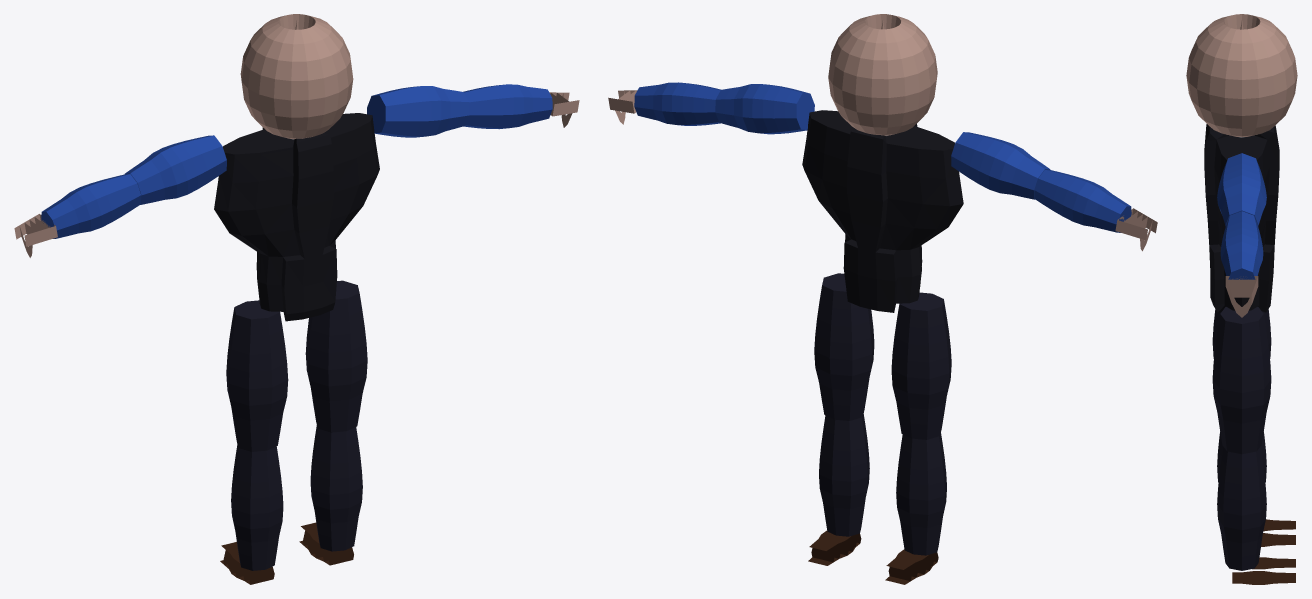
Rendered from e7da803e-6b1f-4518-88e0-7a30cddf0953.glb.
3 renders of one model, left to right at view 1: azimuth 30°, elevation 25°; view 2: azimuth 150°, elevation 25°; view 3: azimuth 270°, elevation 25°, orthographic. The views are drawn at different scales.
Visible parts, largest first — view 1: Torso, Head, Leg_L_Upper, Leg_R_Upper, Leg_R_Lower, Leg_L_Lower, Arm_R_Upper, Arm_L_Upper, Arm_L_Lower, Arm_R_Lower, Foot_L, Foot_R (+1 smaller); view 2: Torso, Head, Leg_L_Upper, Leg_R_Upper, Leg_L_Lower, Leg_R_Lower, Arm_R_Upper, Arm_L_Upper, Arm_L_Lower, Arm_R_Lower, Foot_L, Foot_R (+1 smaller); view 3: Head, Leg_R_Upper, Torso, Leg_R_Lower, Arm_R_Upper, Arm_R_Lower, Foot_R, Hand_R, Foot_L, Leg_L_Upper, Leg_L_Lower.
Boxes of the visible parts, box(x1,y1,x2,y2) form: Torso: box(214, 113, 379, 321); Head: box(240, 14, 353, 139); Leg_L_Upper: box(226, 300, 288, 451); Leg_R_Upper: box(305, 280, 367, 432); Leg_R_Lower: box(310, 425, 362, 551); Leg_L_Lower: box(231, 445, 283, 570); Arm_R_Upper: box(367, 86, 469, 137); Arm_L_Upper: box(125, 135, 226, 204); Arm_L_Lower: box(41, 174, 141, 238); Arm_R_Lower: box(463, 84, 552, 129); Foot_L: box(220, 542, 274, 584); Foot_R: box(299, 522, 353, 565); Torso: box(802, 110, 963, 312); Head: box(828, 14, 937, 135); Leg_L_Upper: box(891, 292, 951, 439); Leg_R_Upper: box(814, 273, 874, 420); Leg_L_Lower: box(896, 433, 946, 555); Leg_R_Lower: box(819, 414, 869, 536); Arm_R_Upper: box(715, 84, 814, 134); Arm_L_Upper: box(951, 132, 1050, 199); Arm_L_Lower: box(1034, 169, 1131, 232); Arm_R_Lower: box(634, 82, 720, 125); Foot_L: box(885, 549, 938, 584); Foot_R: box(808, 530, 861, 565); Head: box(1186, 14, 1297, 137); Leg_R_Upper: box(1212, 307, 1271, 454); Torso: box(1204, 124, 1279, 312); Leg_R_Lower: box(1217, 447, 1266, 570); Arm_R_Upper: box(1217, 153, 1266, 225); Arm_R_Lower: box(1220, 211, 1263, 279); Foot_R: box(1232, 557, 1295, 584); Hand_R: box(1225, 276, 1258, 317); Foot_L: box(1261, 519, 1295, 546); Leg_L_Upper: box(1212, 309, 1271, 358); Leg_L_Lower: box(1217, 431, 1266, 482).
Bounding box in the file's own units: 1.57 × 1.48 × 0.2765.
